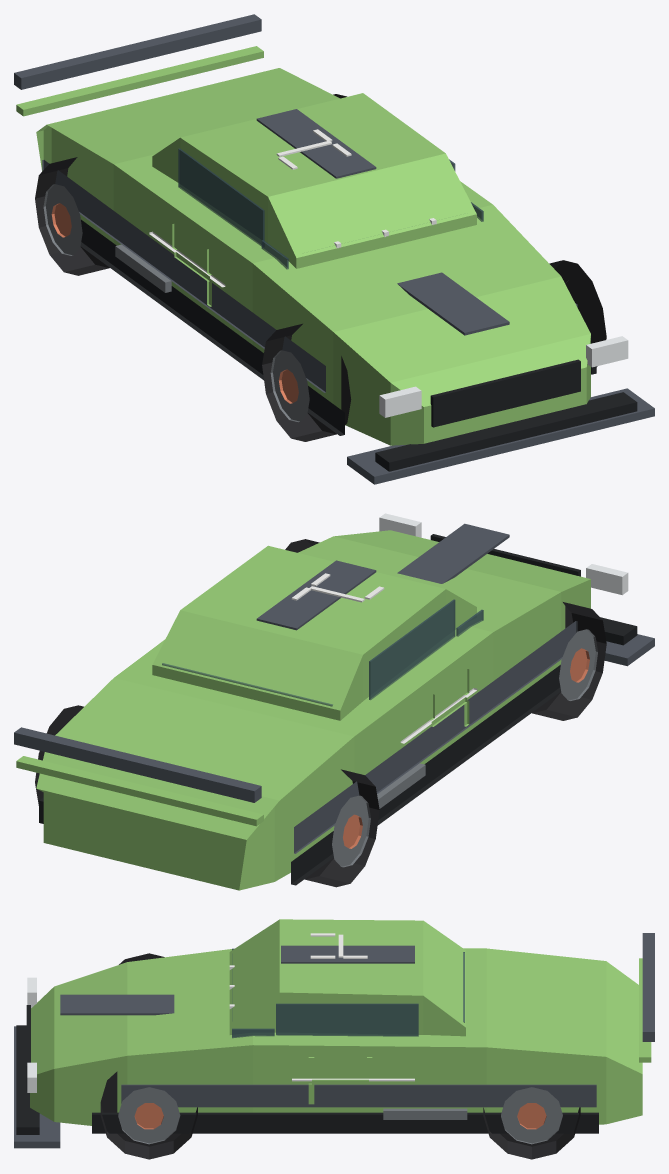
The model's file is web_stock_car_04.gltf.
The picture shows the model from 3 angles, top to bottom: view 1: azimuth 30°, elevation 25°; view 2: azimuth 150°, elevation 25°; view 3: azimuth 270°, elevation 25°; orthographic projection. The views are drawn at different scales.
Parts seen in each view (by area): view 1: WebStockCar_04; view 2: WebStockCar_04; view 3: WebStockCar_04.
Boxes of the visible parts, x1,y1,x2,y2 form: WebStockCar_04: (14,14,654,484); WebStockCar_04: (14,513,654,890); WebStockCar_04: (14,919,654,1159).
Bounding box in the file's own units: 2.35 × 1.34 × 5.26.
